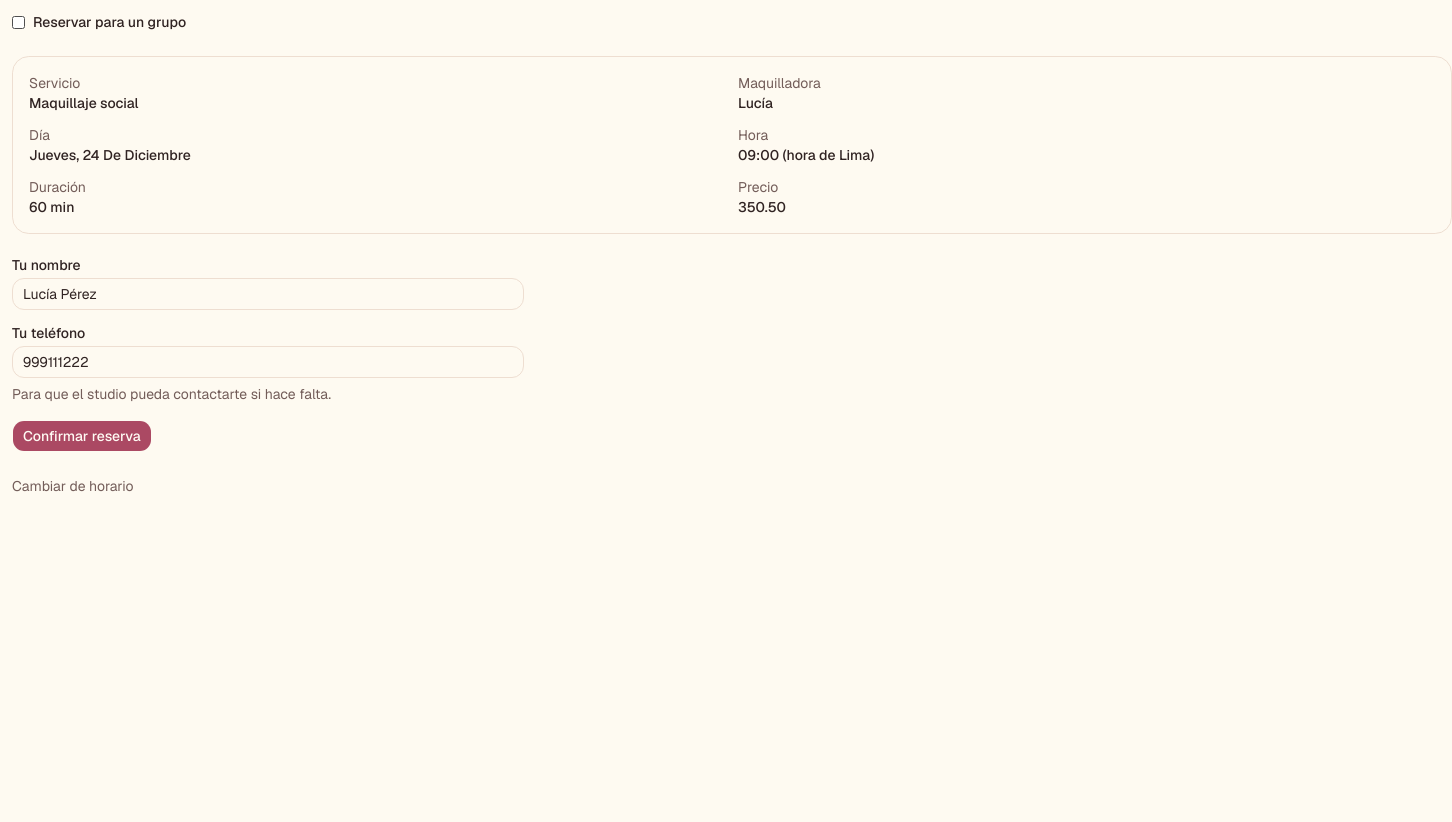
Test: activar y desactivar el modo grupal › al activarlo muestra a la primera integrante con la selección actual y puede agregar otra
The width and height of the screenshot is (1452, 822).
Click the switch labelled "Reservar para un grupo": x=18, y=22 [12,16,25,28]
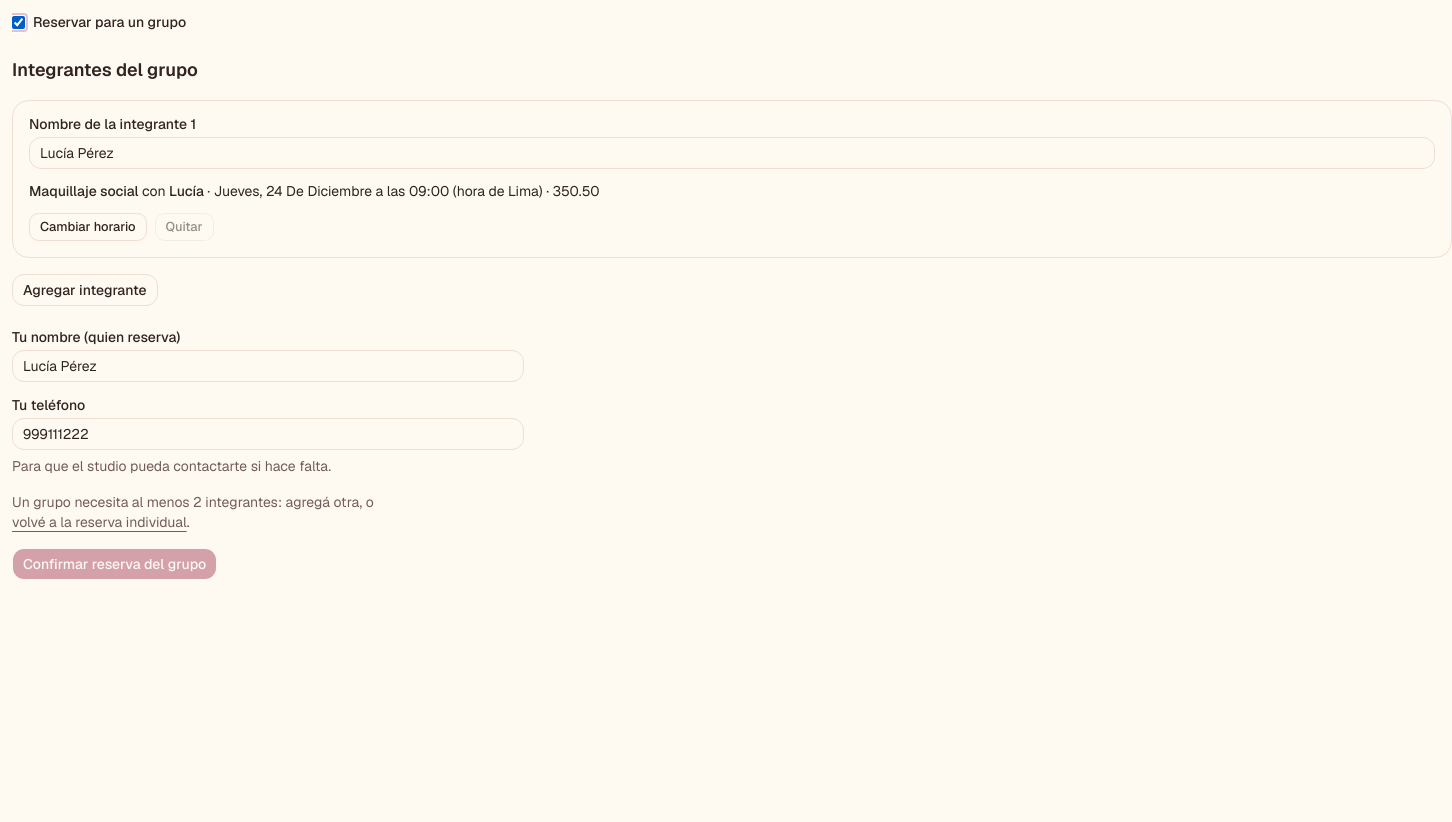
Check: the switch labelled "Reservar para un grupo" is checked, box [12,16,25,28]
Check: the heading "Integrantes del grupo" is shown, box [12,58,198,81]
Check: the field labelled "Nombre de la integrante 1" holds "Lucía Pérez", box [29,137,1435,169]
